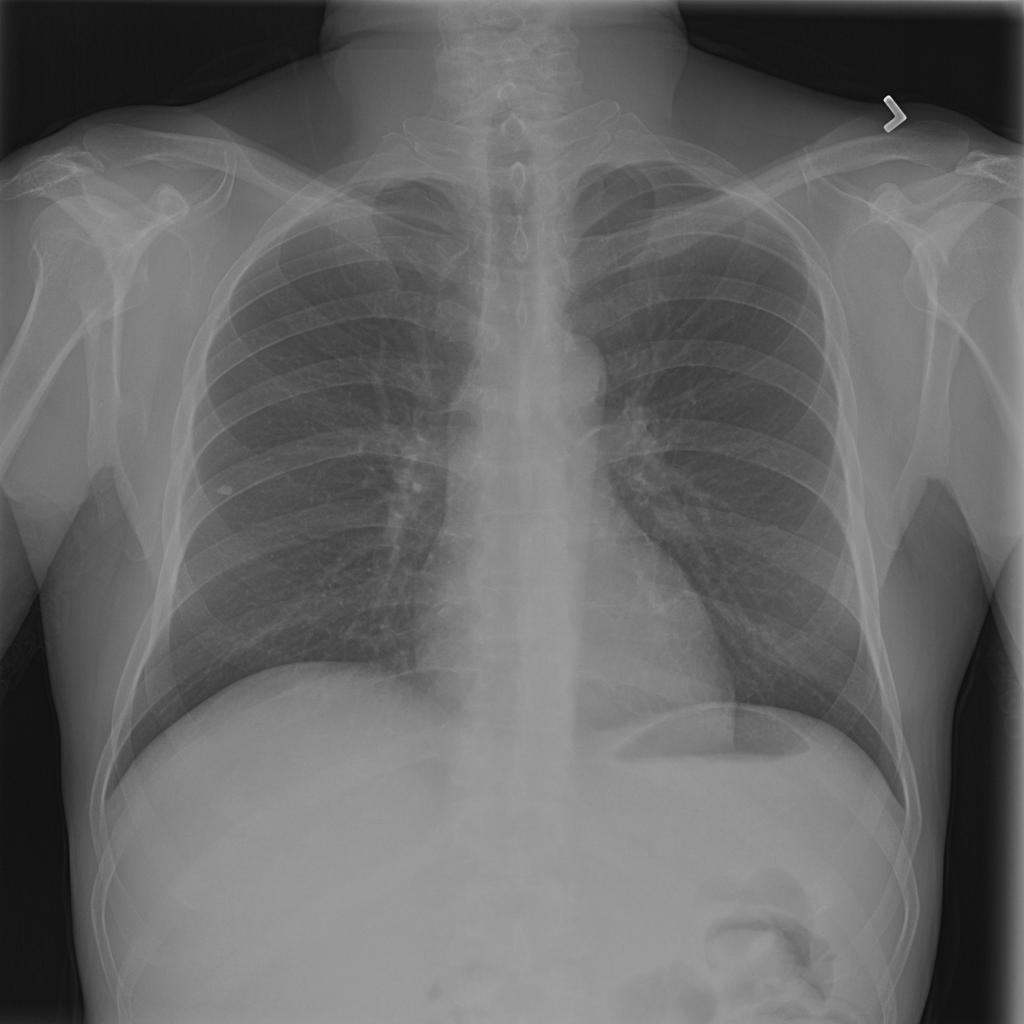nodule: (208, 476, 242, 502)
